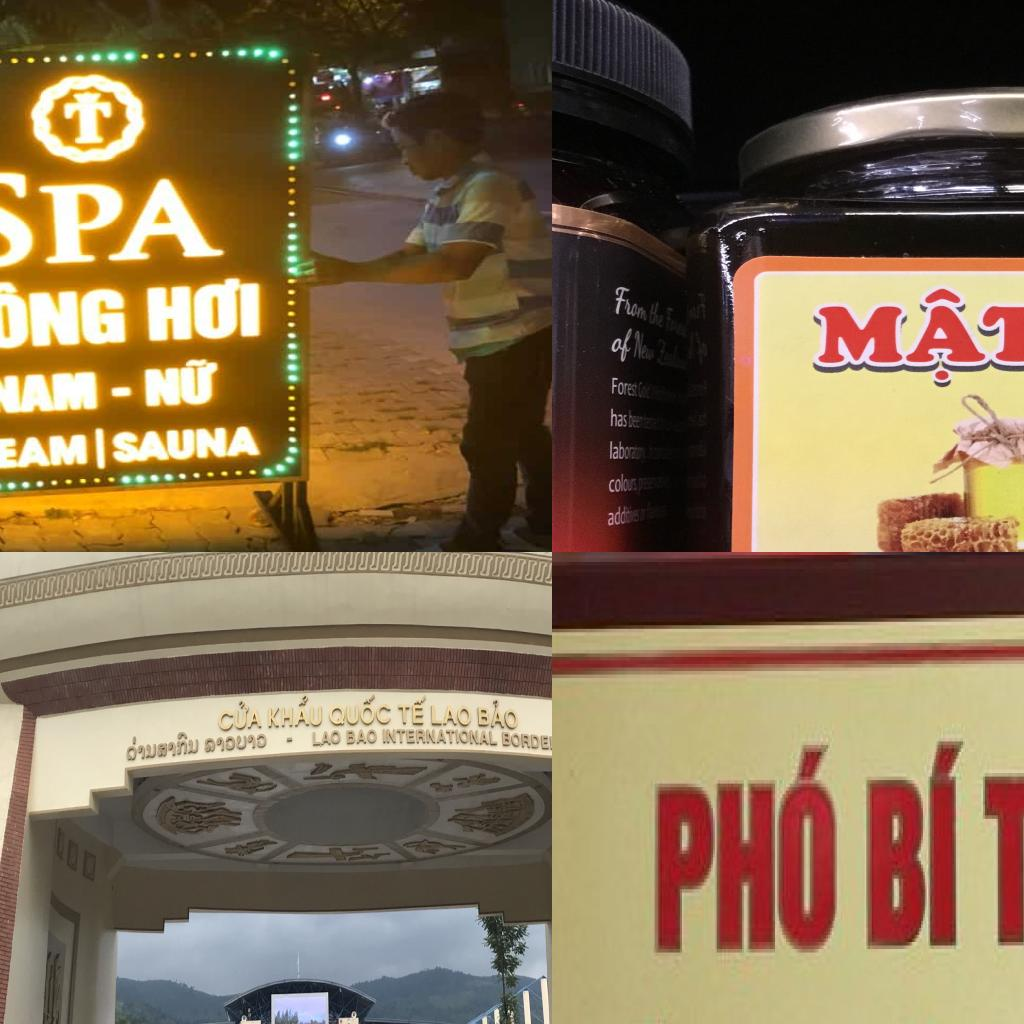text: (651, 730, 846, 966), (861, 727, 968, 963), (0, 169, 233, 270), (0, 277, 129, 353), (979, 741, 1024, 955), (143, 276, 263, 344), (0, 370, 101, 417), (686, 249, 737, 334), (141, 358, 220, 410), (698, 344, 748, 419), (0, 433, 90, 473), (379, 726, 500, 748), (62, 100, 117, 146), (325, 692, 391, 726), (264, 695, 324, 729), (213, 699, 265, 731), (474, 696, 520, 729), (690, 28, 726, 66), (497, 728, 552, 751), (428, 699, 472, 726), (395, 692, 427, 726), (664, 34, 694, 66), (737, 249, 759, 292), (682, 66, 712, 97), (968, 537, 1017, 552), (748, 382, 768, 417), (342, 728, 378, 747), (744, 316, 760, 358), (309, 729, 341, 750), (657, 0, 686, 15), (660, 17, 685, 33), (742, 294, 758, 314), (748, 360, 764, 380), (734, 419, 746, 427), (746, 92, 757, 99)
